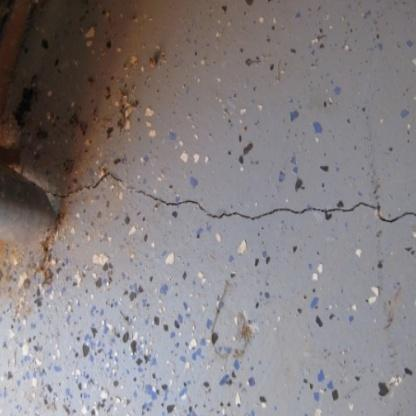Cracks: (134, 187, 416, 227), (57, 169, 128, 203)
